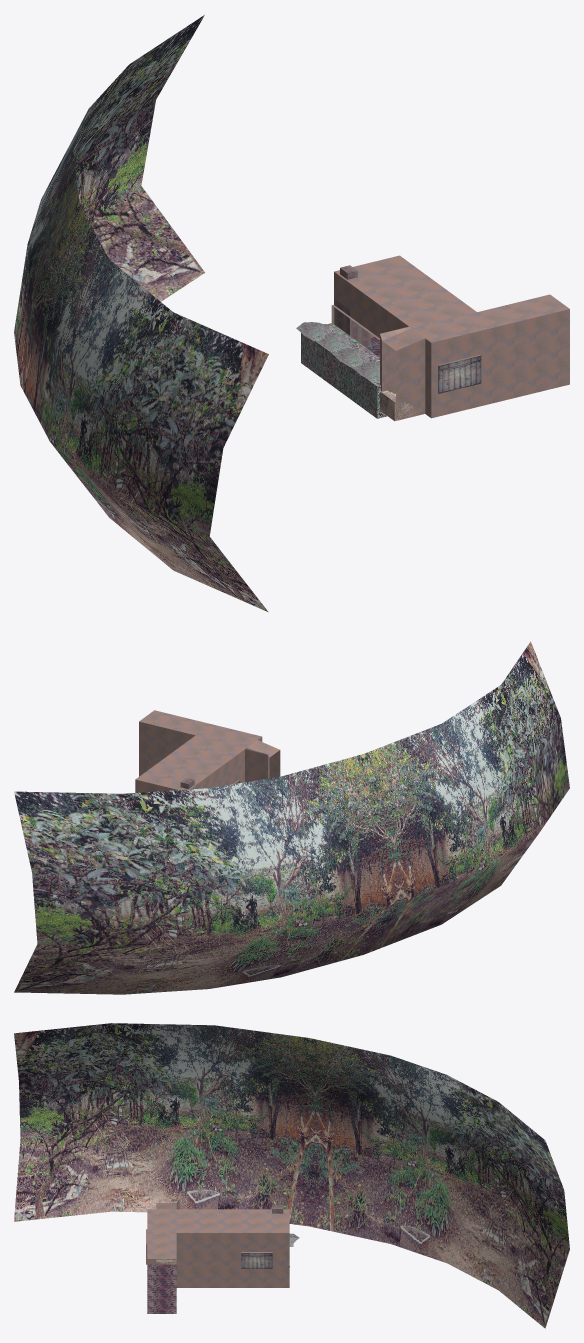
File: Churras.fbx
The picture shows the model from 3 angles, top to bottom: view 1: azimuth 30°, elevation 25°; view 2: azimuth 150°, elevation 25°; view 3: azimuth 270°, elevation 25°; orthographic projection. The views are drawn at different scales.
Visible parts, largest first — view 1: Plane.127, Plane.121, Cube.010, Cube.005; view 2: Plane.127, Plane.121; view 3: Plane.127, Plane.121.
Boxes of the visible parts, x1=… form: Plane.127: x1=14, y1=15, x2=268, y2=612; Plane.121: x1=331, y1=255, x2=569, y2=419; Cube.010: x1=301, y1=323, x2=387, y2=418; Cube.005: x1=334, y1=265, x2=370, y2=348; Plane.127: x1=14, y1=641, x2=569, y2=994; Plane.121: x1=135, y1=710, x2=280, y2=792; Plane.127: x1=14, y1=1023, x2=569, y2=1328; Plane.121: x1=146, y1=1199, x2=289, y2=1313.
Size of the model in its own units: 3078 by 1596 by 4267.
Materials: 10 (10 with a texture image).
